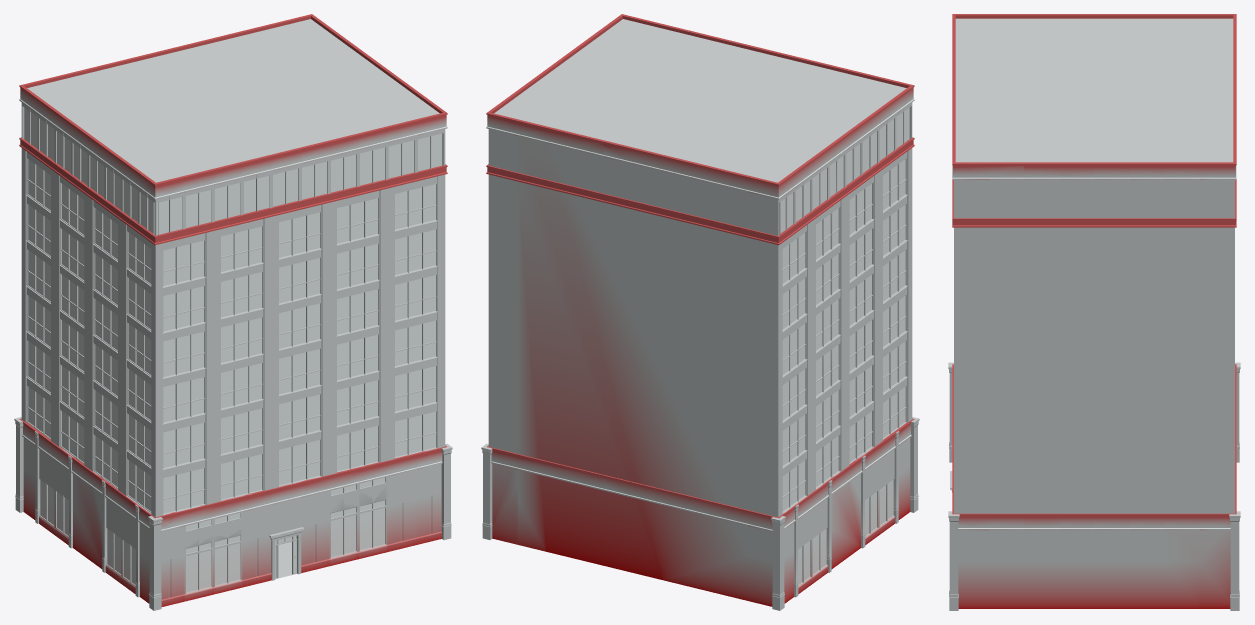
File: building-large-2.glb
3 renders of one model, left to right at view 1: azimuth 30°, elevation 25°; view 2: azimuth 150°, elevation 25°; view 3: azimuth 270°, elevation 25°, orthographic. The views are drawn at different scales.
Parts seen in each view (by area): view 1: Building_Large_2; view 2: Building_Large_2; view 3: Building_Large_2.
Boxes of the visible parts, bbox=[...] form: Building_Large_2: bbox=[14, 14, 452, 610]; Building_Large_2: bbox=[481, 14, 919, 610]; Building_Large_2: bbox=[948, 14, 1240, 610].
Bounding box in the file's own units: 20.64 × 28 × 16.64.
